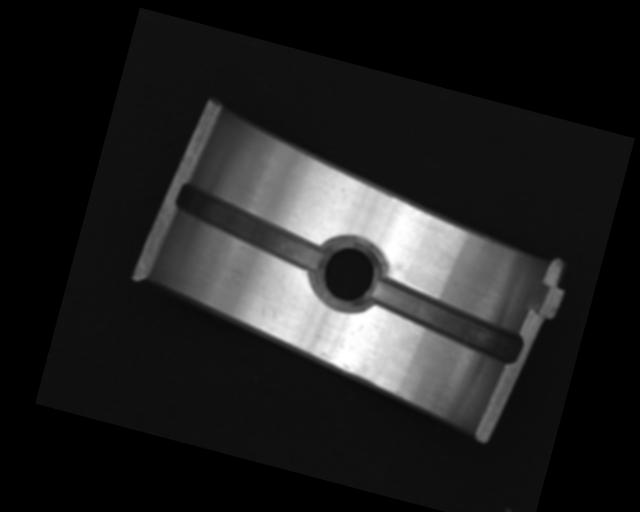gap: (362, 275, 529, 366), (168, 182, 332, 274)
hole: (307, 232, 387, 318)
